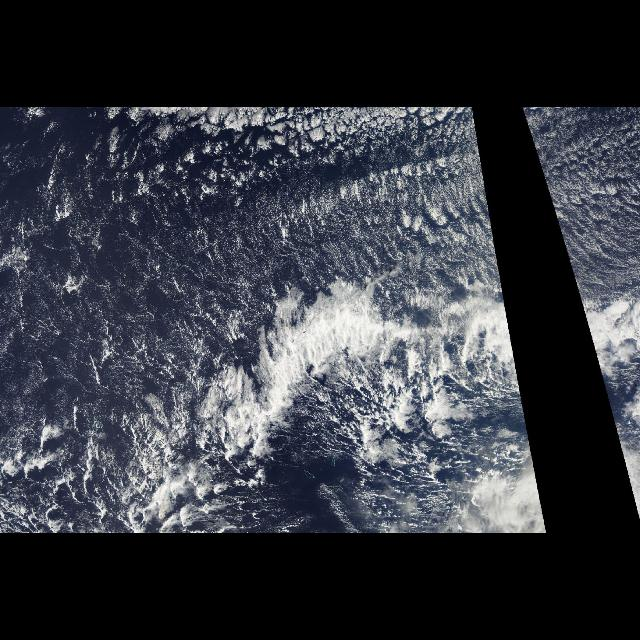Fish: (98, 274, 496, 524)
Gravel: (264, 172, 506, 306), (9, 394, 173, 532), (541, 172, 639, 306)
Sugar: (2, 146, 506, 432), (536, 156, 640, 304)
